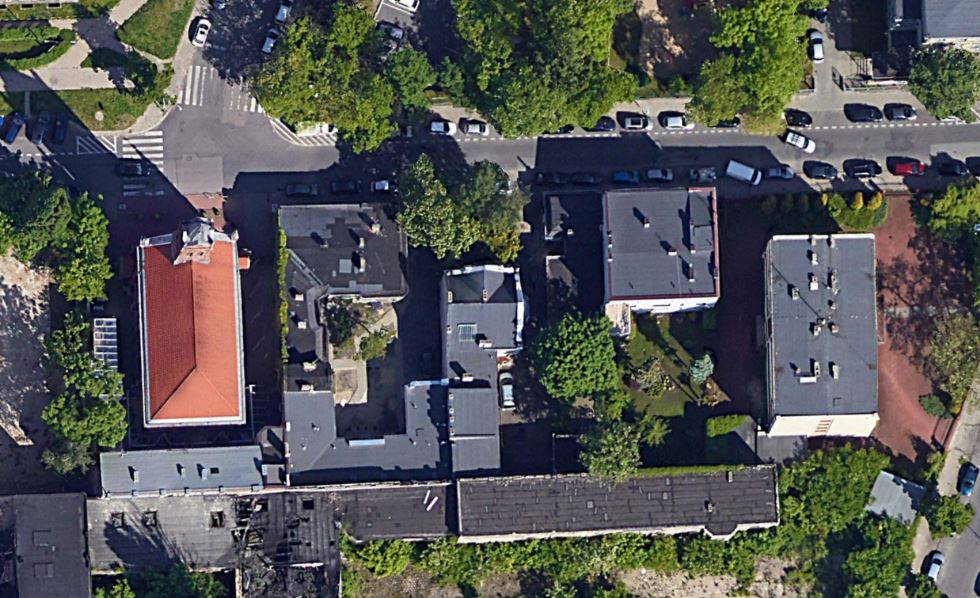block of flats: (1, 455, 791, 597), (271, 177, 540, 483), (752, 227, 895, 451), (589, 177, 732, 332)
church: (128, 202, 258, 442)
